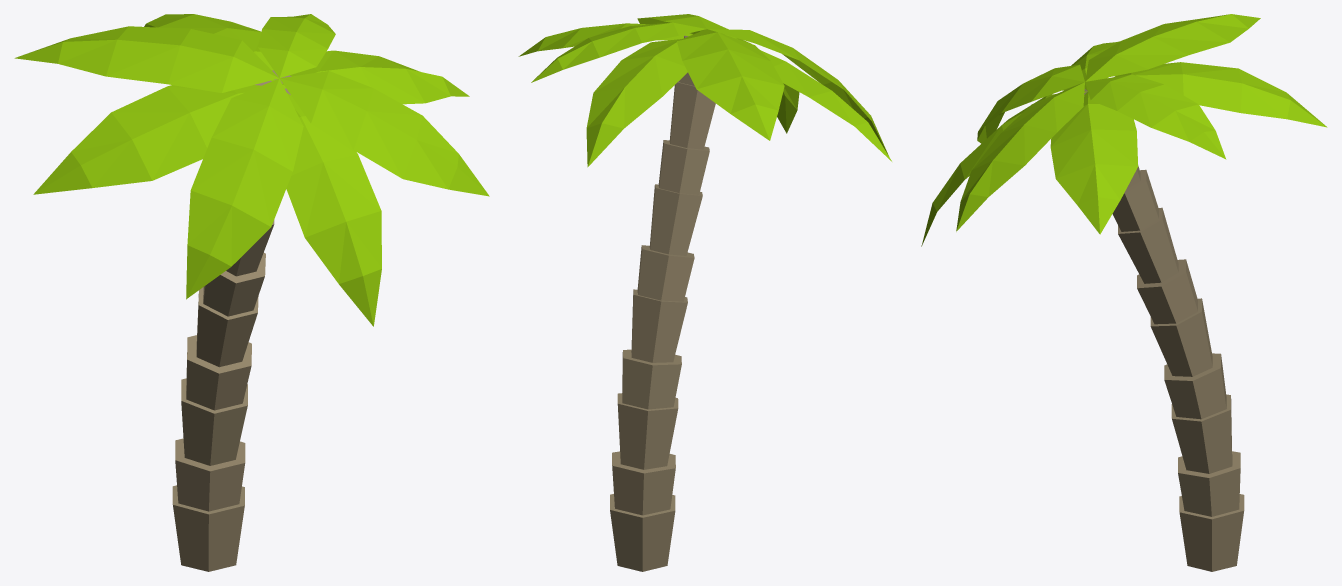
Rendered from palm2.fbx.
3 renders of one model, left to right at view 1: azimuth 30°, elevation 25°; view 2: azimuth 150°, elevation 25°; view 3: azimuth 270°, elevation 25°, orthographic. The views are drawn at different scales.
Visible parts, largest first — view 1: palm2; view 2: palm2; view 3: palm2.
Boxes of the visible parts, x1,y1,x2,y2 form: palm2: (14,14,489,571); palm2: (518,14,891,571); palm2: (921,14,1327,571).
Bounding box in the file's own units: 166 × 206 × 153.
